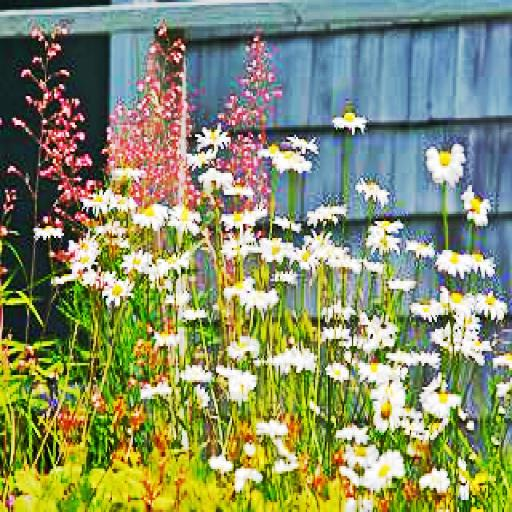daisy: (365, 452, 403, 485), (430, 142, 464, 178), (466, 187, 492, 226), (374, 387, 402, 423), (197, 125, 230, 151), (362, 231, 396, 255), (426, 384, 459, 408), (122, 248, 152, 274), (358, 175, 386, 202), (138, 204, 166, 231), (158, 255, 196, 274), (290, 243, 320, 267), (478, 291, 508, 315), (360, 356, 394, 377), (226, 373, 252, 399), (442, 291, 474, 312), (282, 149, 312, 171), (168, 204, 197, 226), (229, 337, 259, 358), (293, 132, 320, 154), (226, 209, 260, 226), (107, 279, 128, 305), (310, 204, 342, 221), (472, 252, 494, 276), (325, 361, 350, 382), (336, 110, 362, 130), (261, 236, 285, 257), (410, 240, 434, 260), (442, 250, 466, 269), (186, 152, 214, 168), (227, 183, 258, 197), (414, 300, 438, 318), (75, 240, 98, 258), (32, 224, 61, 238), (118, 164, 140, 182), (224, 276, 250, 291), (373, 219, 400, 233), (114, 195, 131, 216), (493, 351, 512, 368), (90, 192, 108, 209), (266, 144, 280, 159)
